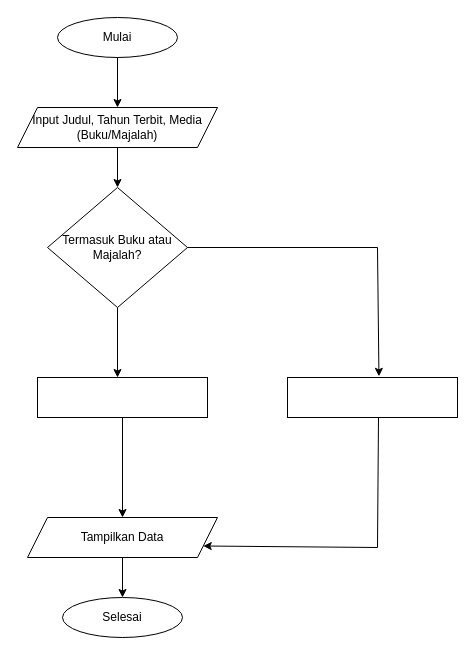
The diagram is 475 pixels wide and 655 high, and some of its shapes have lost their labels. The centre of each missing label's shape, as x and y in pixels:
Masuk Struct Buku: [122,397]
Masuk Struct Majalah: [372,397]
